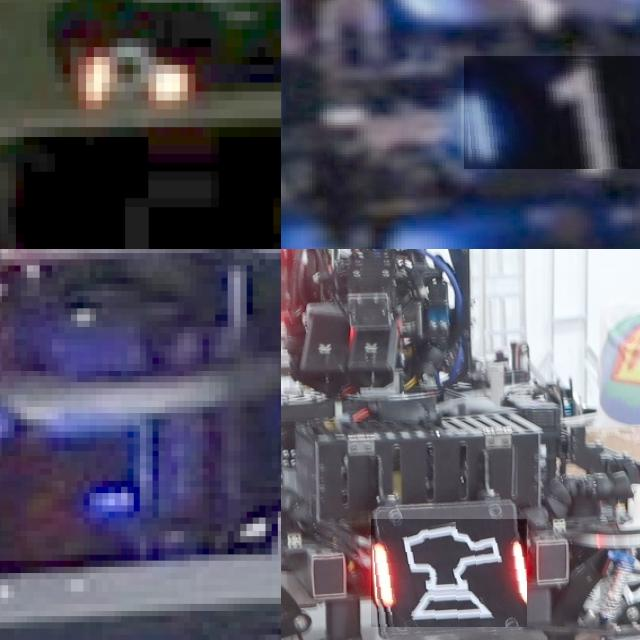B1: (464, 56, 640, 169)
Rs: (371, 519, 527, 627)
